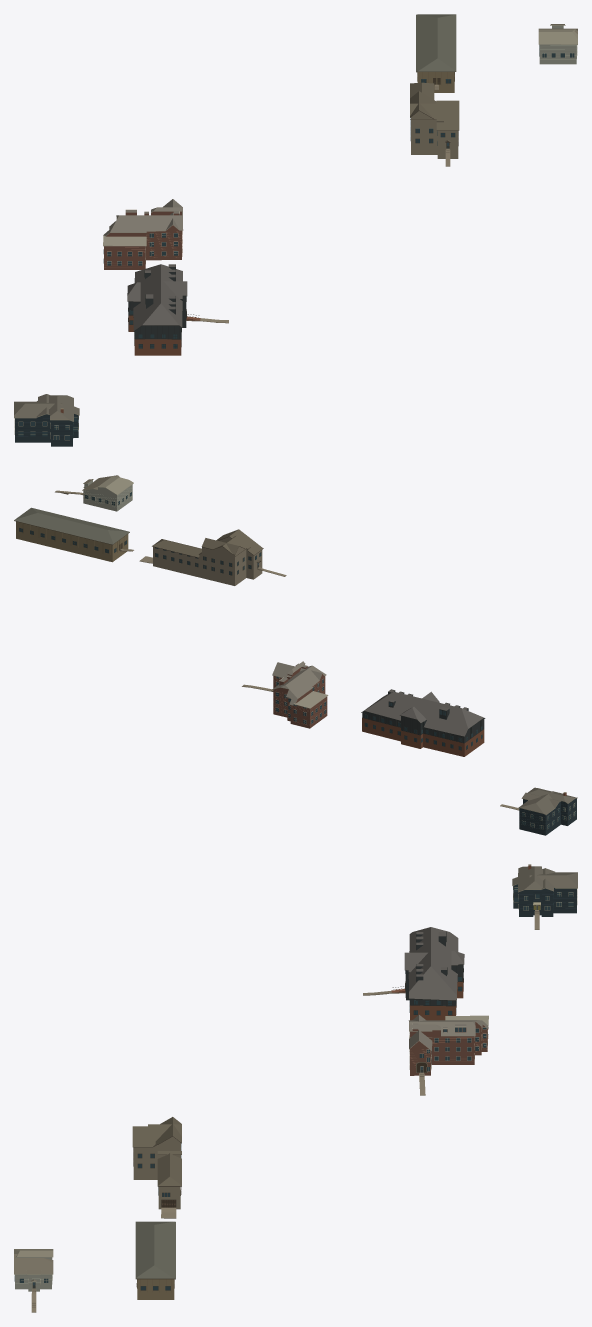
The model's file is site.glb.
3 views of the same model, one above another, from view 1: azimuth 90°, elevation 25°; view 2: azimuth 150°, elevation 25°; view 3: azimuth 270°, elevation 25° (orthographic). The views are drawn at different scales.
Visible parts, largest first — view 1: roof-213417ee, roof-649a6455, roof-16023474, roof-7b1d50e1, roof-35a23996, roof-b3d39b2f; view 2: roof-213417ee, roof-16023474, roof-7b1d50e1, roof-649a6455, roof-35a23996, roof-b3d39b2f; view 3: roof-213417ee, roof-649a6455, roof-16023474, roof-7b1d50e1, roof-35a23996, roof-b3d39b2f, south-campus-frontage-walks.
Boxes of the visible parts, <box> form: roof-213417ee: <box>127,264,187,355</box>; roof-649a6455: <box>103,199,183,269</box>; roof-16023474: <box>410,82,459,158</box>; roof-7b1d50e1: <box>416,14,456,92</box>; roof-35a23996: <box>14,394,79,446</box>; roof-b3d39b2f: <box>538,24,577,64</box>; roof-213417ee: <box>361,689,485,756</box>; roof-16023474: <box>152,529,263,585</box>; roof-7b1d50e1: <box>14,507,129,562</box>; roof-649a6455: <box>272,661,328,728</box>; roof-35a23996: <box>518,787,577,835</box>; roof-b3d39b2f: <box>82,475,133,511</box>; roof-213417ee: <box>404,927,464,1020</box>; roof-649a6455: <box>408,1015,488,1075</box>; roof-16023474: <box>132,1117,181,1209</box>; roof-7b1d50e1: <box>135,1221,175,1299</box>; roof-35a23996: <box>512,864,577,916</box>; roof-b3d39b2f: <box>14,1249,53,1291</box>; south-campus-frontage-walks: <box>31,910,539,1312</box>.
Size of the model in its own units: 282 by 17.84 by 160.
